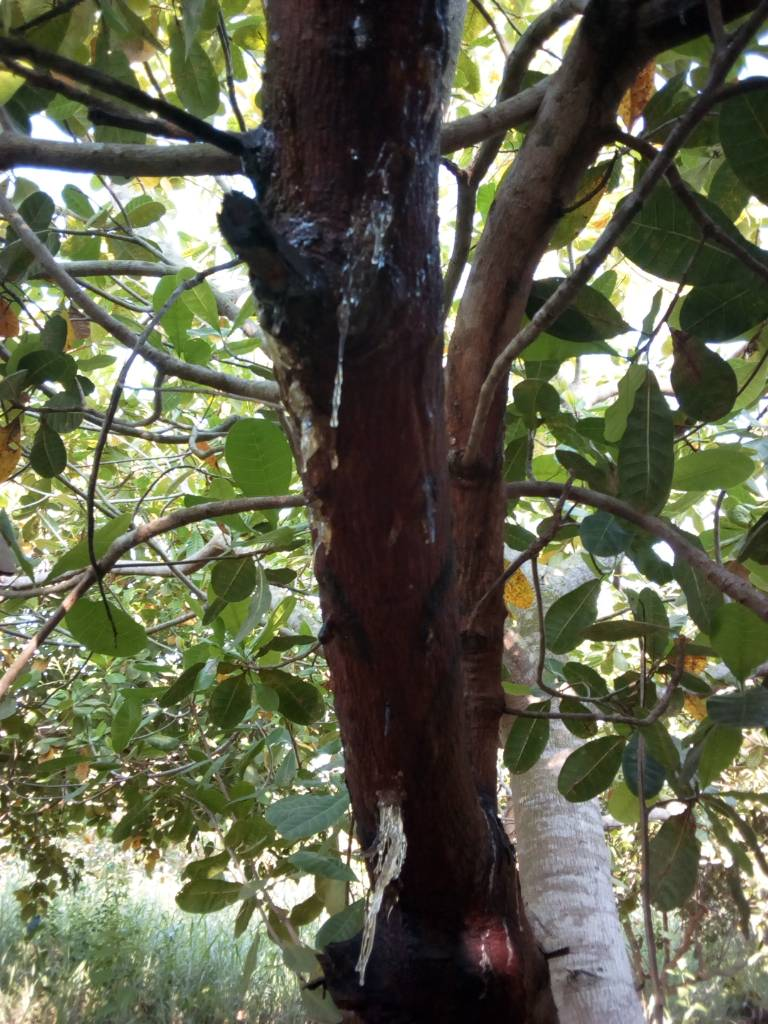Mecocorynus longiceps: (284, 157, 438, 465), (301, 774, 488, 995)
